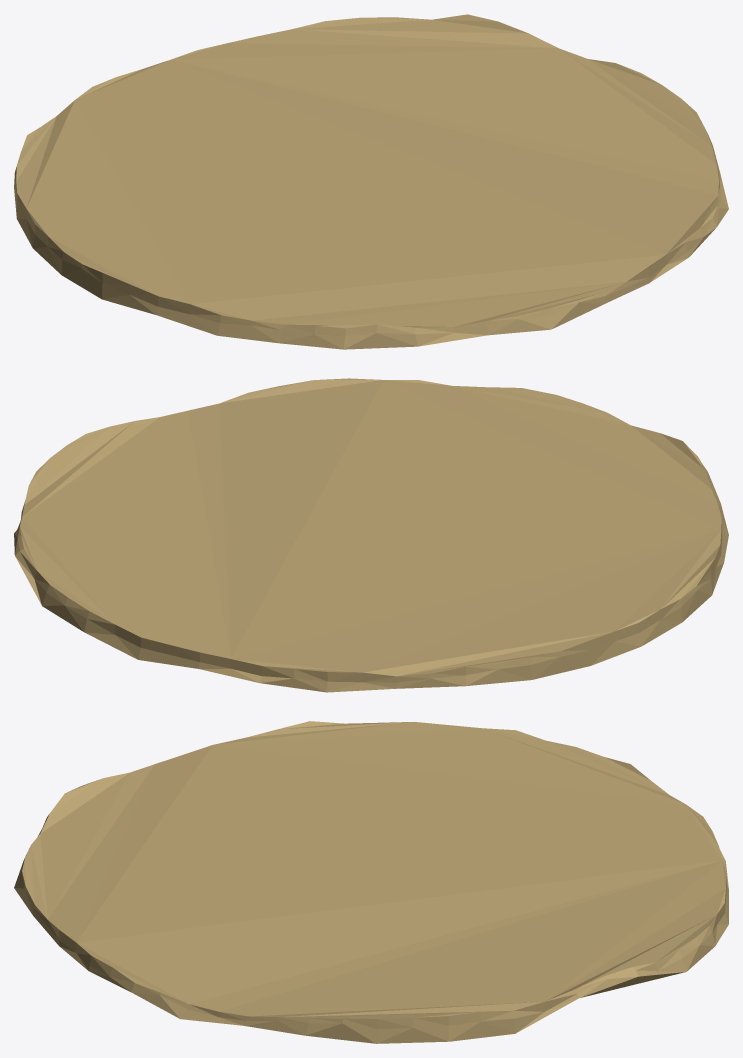
Rendered from cracker.glb.
3 views of the same model, one above another, from view 1: azimuth 30°, elevation 25°; view 2: azimuth 150°, elevation 25°; view 3: azimuth 270°, elevation 25° (orthographic).
Parts seen in each view (by area): view 1: Circle; view 2: Circle; view 3: Circle.
Part boxes in pixels (<box>): Circle: <box>14,14,728,349</box>; Circle: <box>14,378,728,692</box>; Circle: <box>14,721,728,1043</box>.
Size of the model in its own units: 2.01 by 0.1156 by 2.01.
